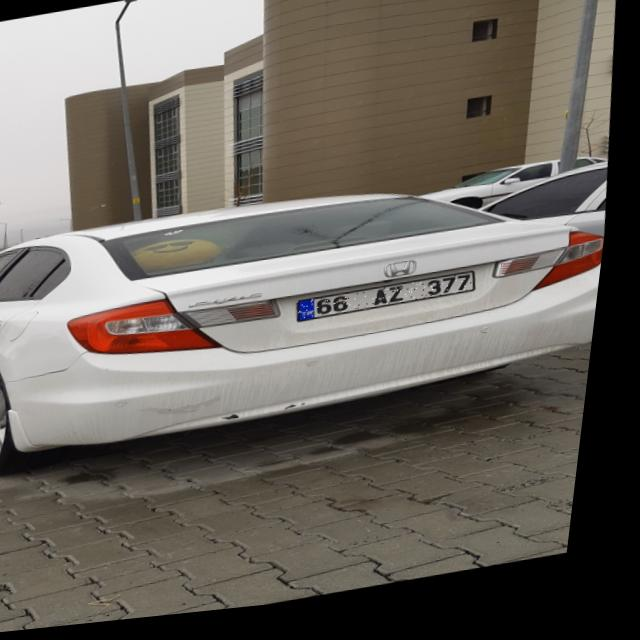license_plate: (303, 281, 485, 328)
